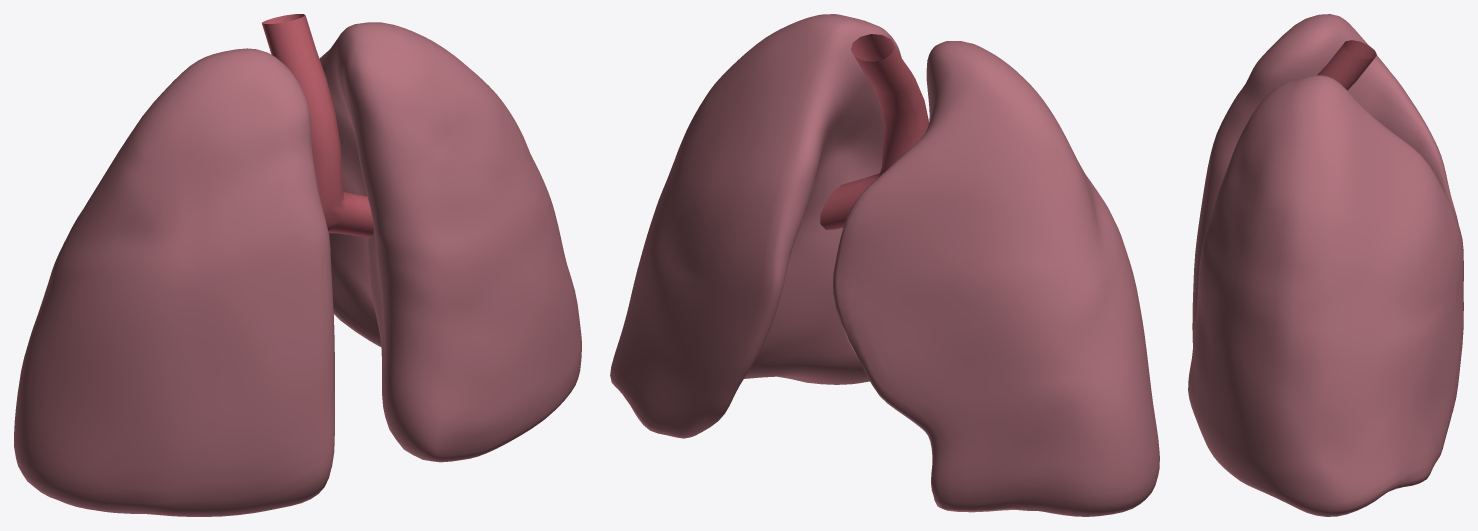
Rendered from lungs_low_poly.fbx.
3 renders of one model, left to right at view 1: azimuth 30°, elevation 25°; view 2: azimuth 150°, elevation 25°; view 3: azimuth 270°, elevation 25°, orthographic. The views are drawn at different scales.
Visible parts, largest first — view 1: Lungs_low, Lungs_Throat; view 2: Lungs_low, Lungs_Throat; view 3: Lungs_low, Lungs_Throat.
Part boxes in pixels (left/top/right/bottom): Lungs_low: left=14, top=22, right=581, bottom=516; Lungs_Throat: left=262, top=14, right=373, bottom=237; Lungs_low: left=610, top=14, right=1159, bottom=516; Lungs_Throat: left=820, top=34, right=929, bottom=229; Lungs_low: left=1188, top=14, right=1463, bottom=516; Lungs_Throat: left=1317, top=40, right=1376, bottom=90.
Size of the model in its own units: 408 by 308 by 208.
